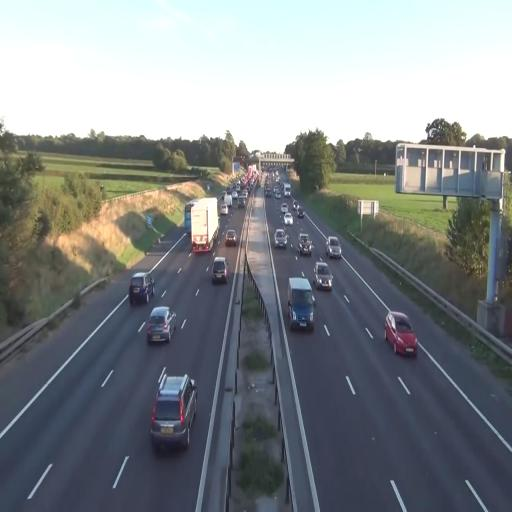vehicle: (150, 366, 198, 454), (188, 198, 220, 254), (189, 198, 220, 254), (384, 310, 418, 358), (287, 276, 316, 330), (144, 306, 172, 346), (128, 274, 154, 308), (314, 260, 333, 292), (209, 256, 229, 284), (326, 236, 342, 260), (298, 233, 312, 256), (274, 228, 288, 249), (224, 228, 237, 246)
